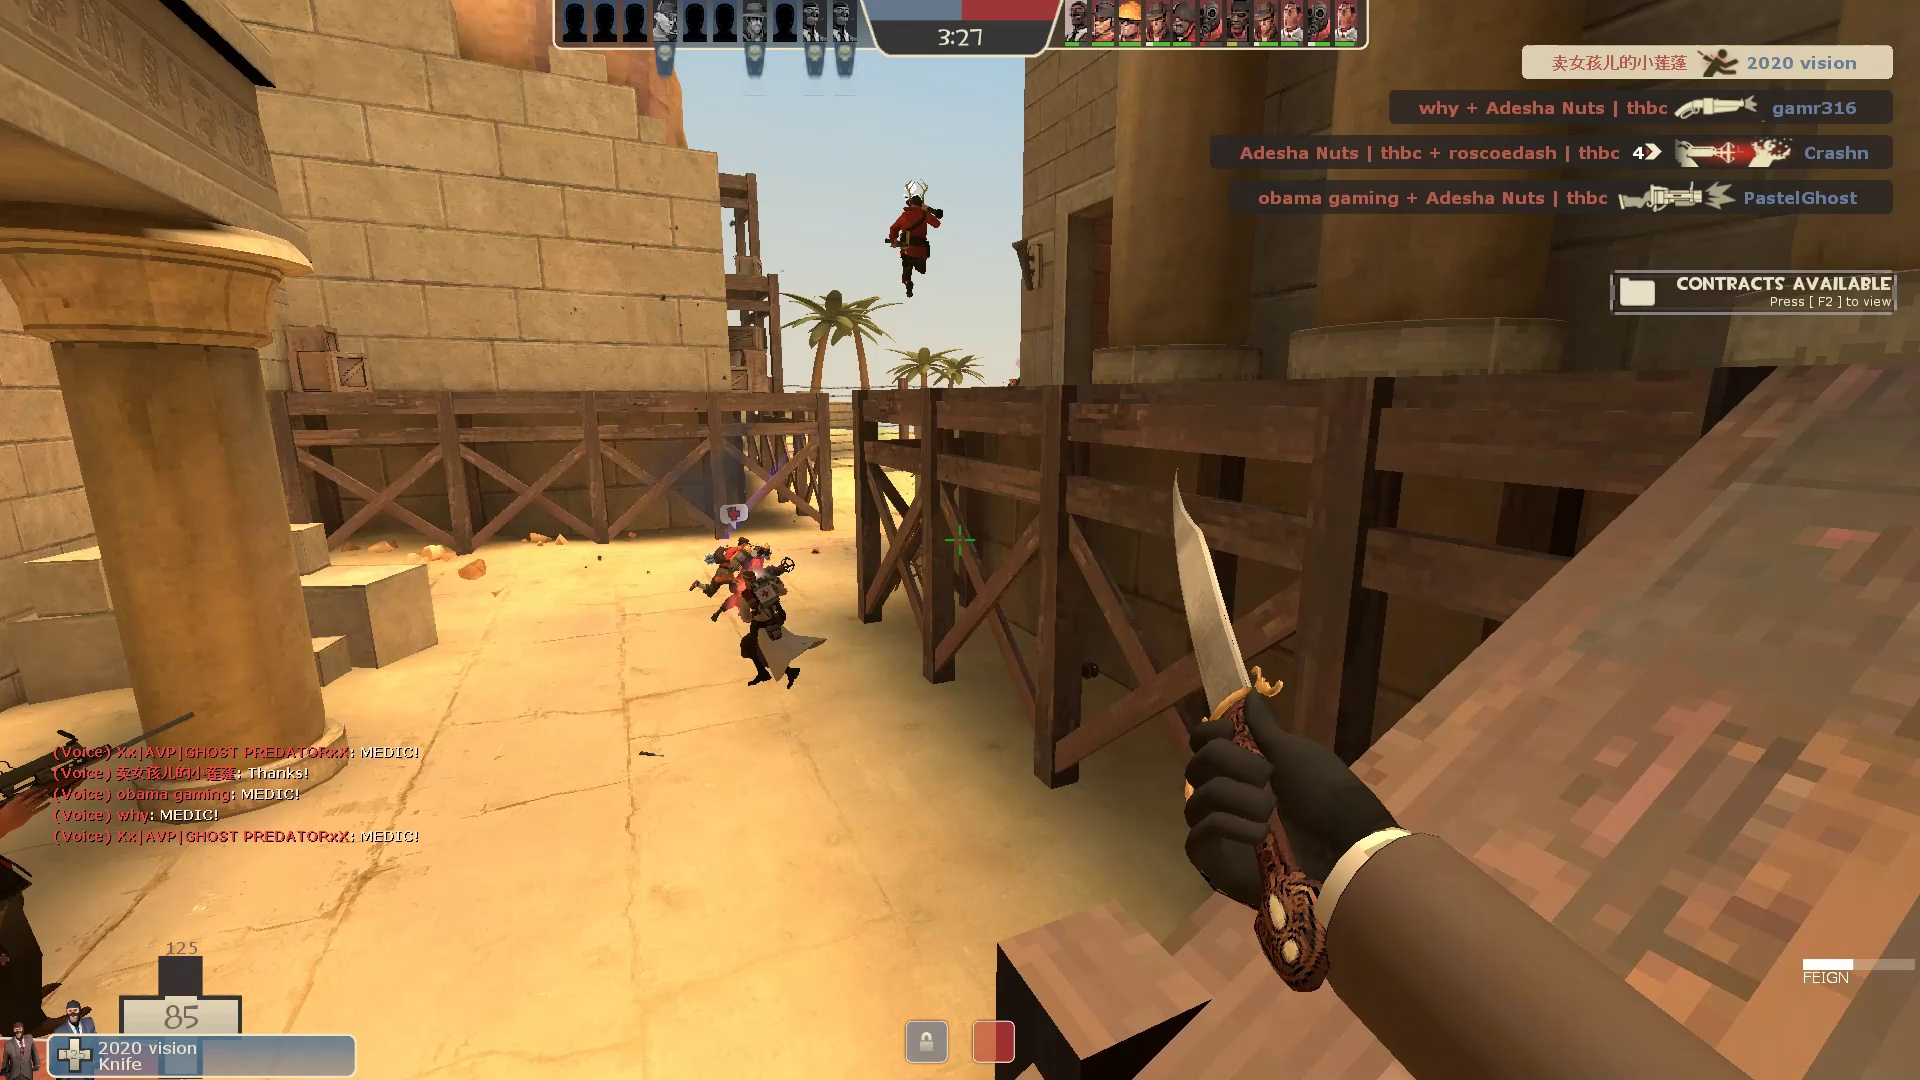red_medic: (733, 566, 829, 694)
red_pyro: (709, 541, 799, 622)
red_scout: (690, 534, 758, 609)
red_sniper: (1, 688, 204, 1054)
red_soldier: (881, 175, 949, 303)
